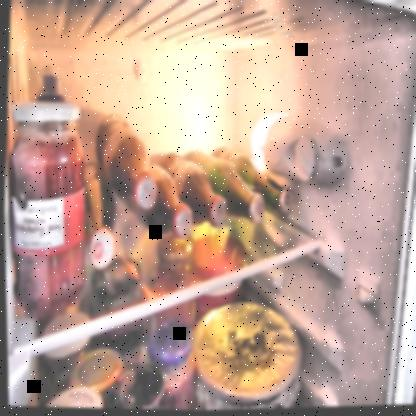mineral_water: (179, 154, 265, 226), (214, 148, 287, 212)
tomato_paste: (4, 132, 87, 307)
